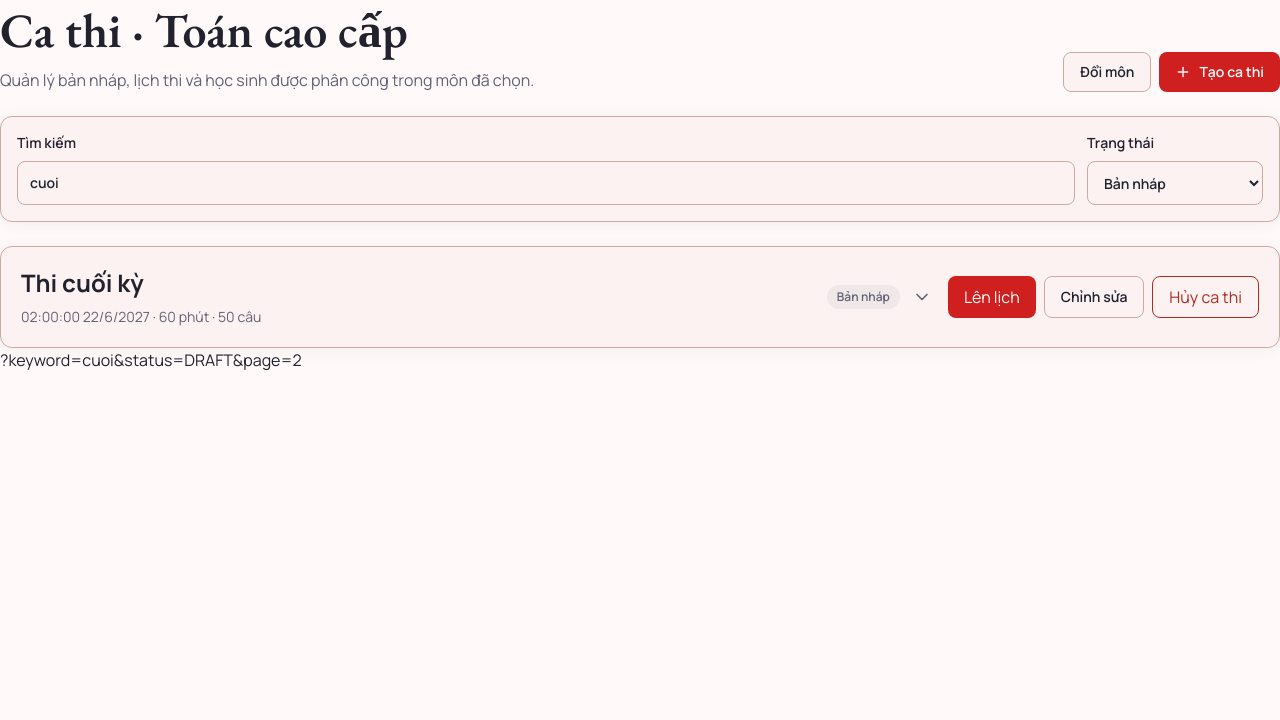
SubjectExamListPage › confirms scheduling and refreshes the card status without navigation
Click the button "Lên lịch": (992, 297) [948,276,1036,318]
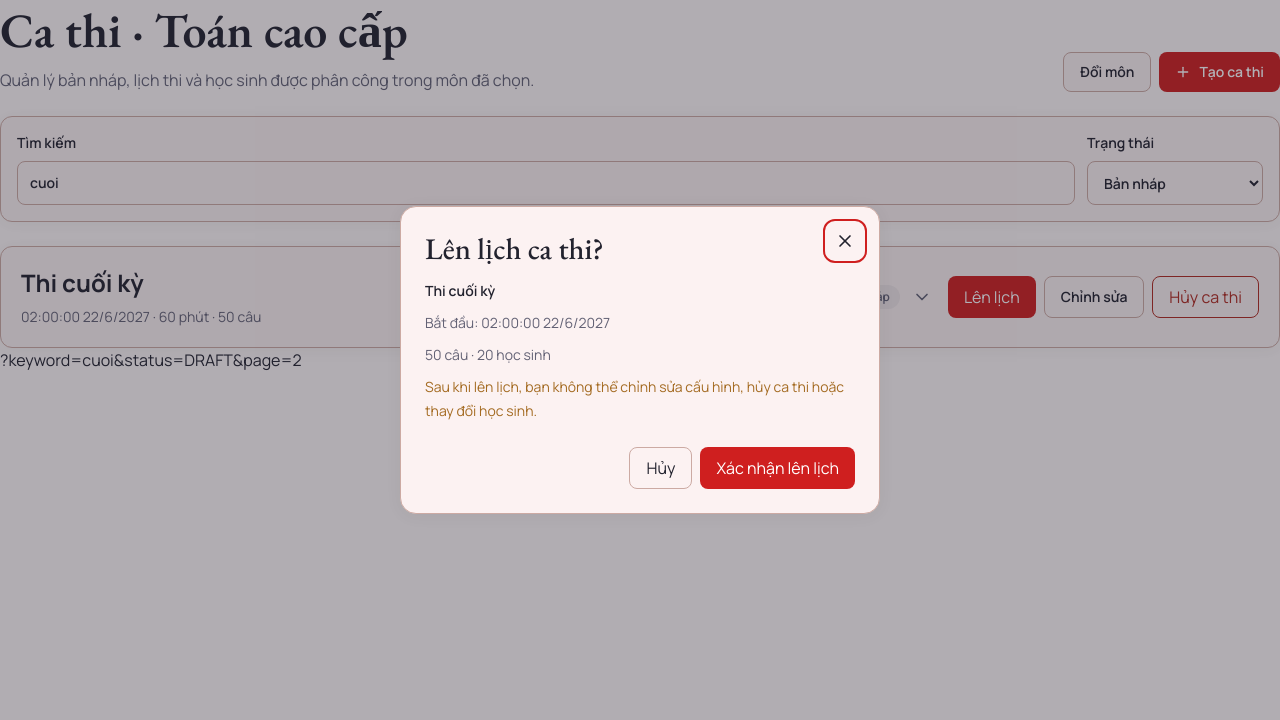
Check: the dialog shows "50 câu · 20 học sinh", box [400,206,880,514]
Check: the dialog shows "không thể chỉnh sửa cấu hình", box [425,377,844,420]
Click the button "Xác nhận lên lịch": (778, 468) [700,447,855,489]
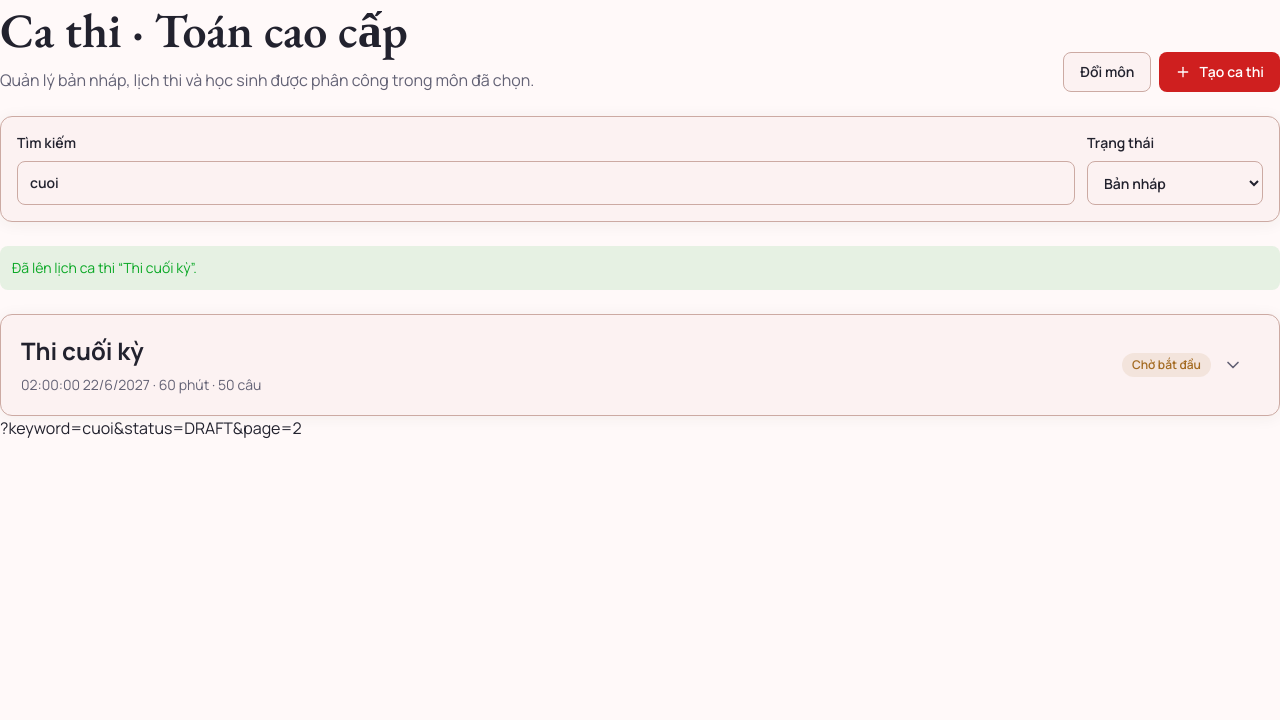
Check: the element "Thi cuối kỳ" is shown, box [0,314,1279,416]
Check: the message shows "Đã lên lịch ca thi", box [12,258,197,277]
Check: the text "Chờ bắt đầu" is shown, box [1122,353,1211,377]
